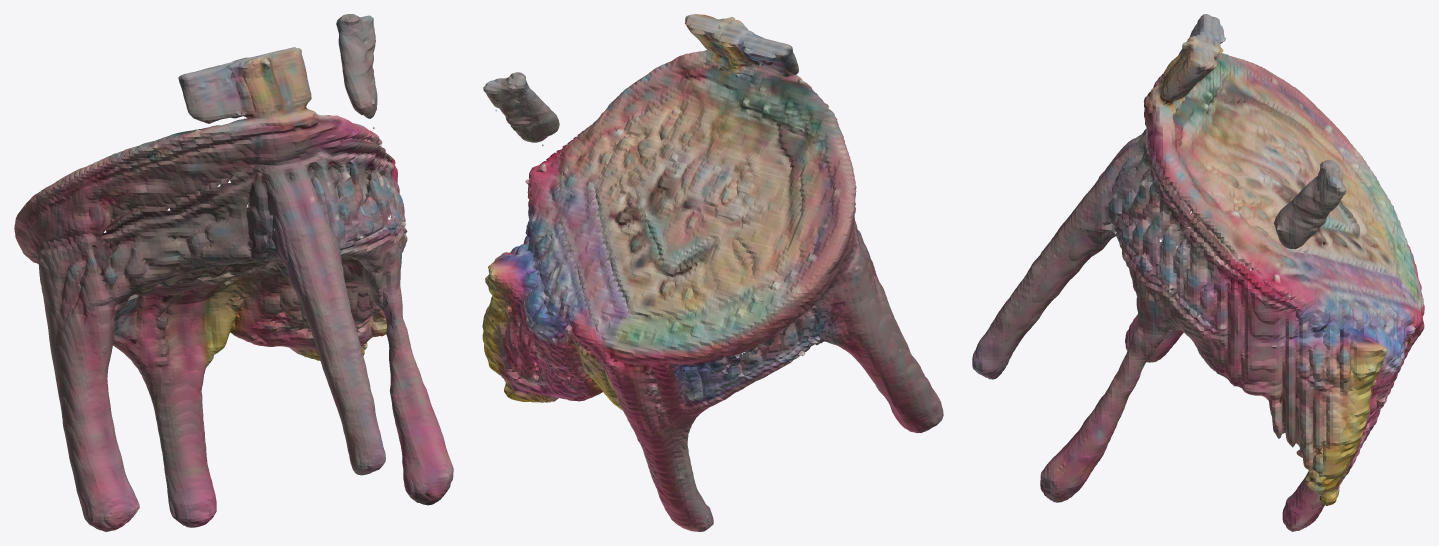
File: banco-pintado-a-mao.glb
The picture shows the model from 3 angles, left to right: view 1: azimuth 30°, elevation 25°; view 2: azimuth 150°, elevation 25°; view 3: azimuth 270°, elevation 25°; orthographic projection. The views are drawn at different scales.
Parts seen in each view (by area): view 1: geometry_0; view 2: geometry_0; view 3: geometry_0.
Part boxes in pixels (x1,y1,x2,y2): geometry_0: (14, 14, 453, 531); geometry_0: (482, 14, 943, 531); geometry_0: (972, 14, 1424, 531).
Size of the model in its own units: 0.8954 by 1.09 by 0.9066.
